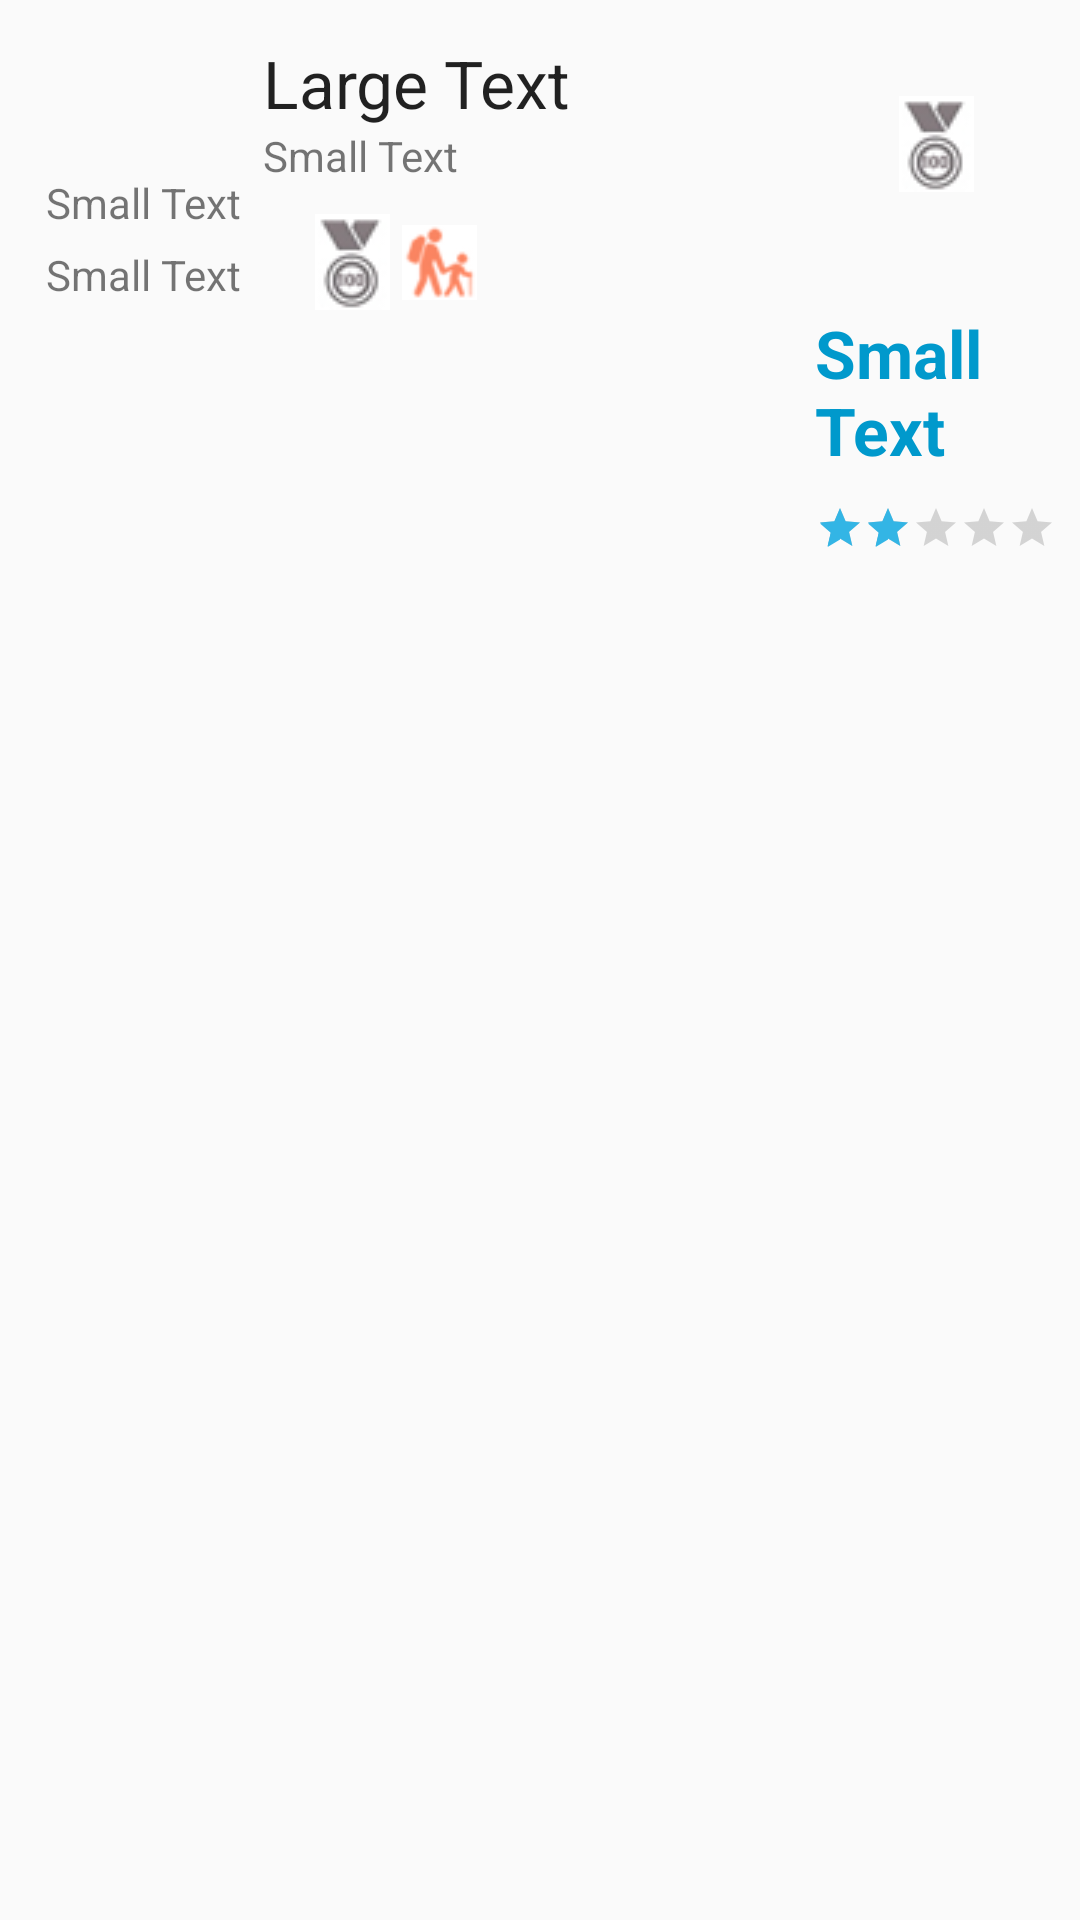

Icon click points for this 1080px x 1920px phone screenshot, format [x,y]:
ehunmendiak: [934,145], [350,263]
umeentzategoki: [439,262]
